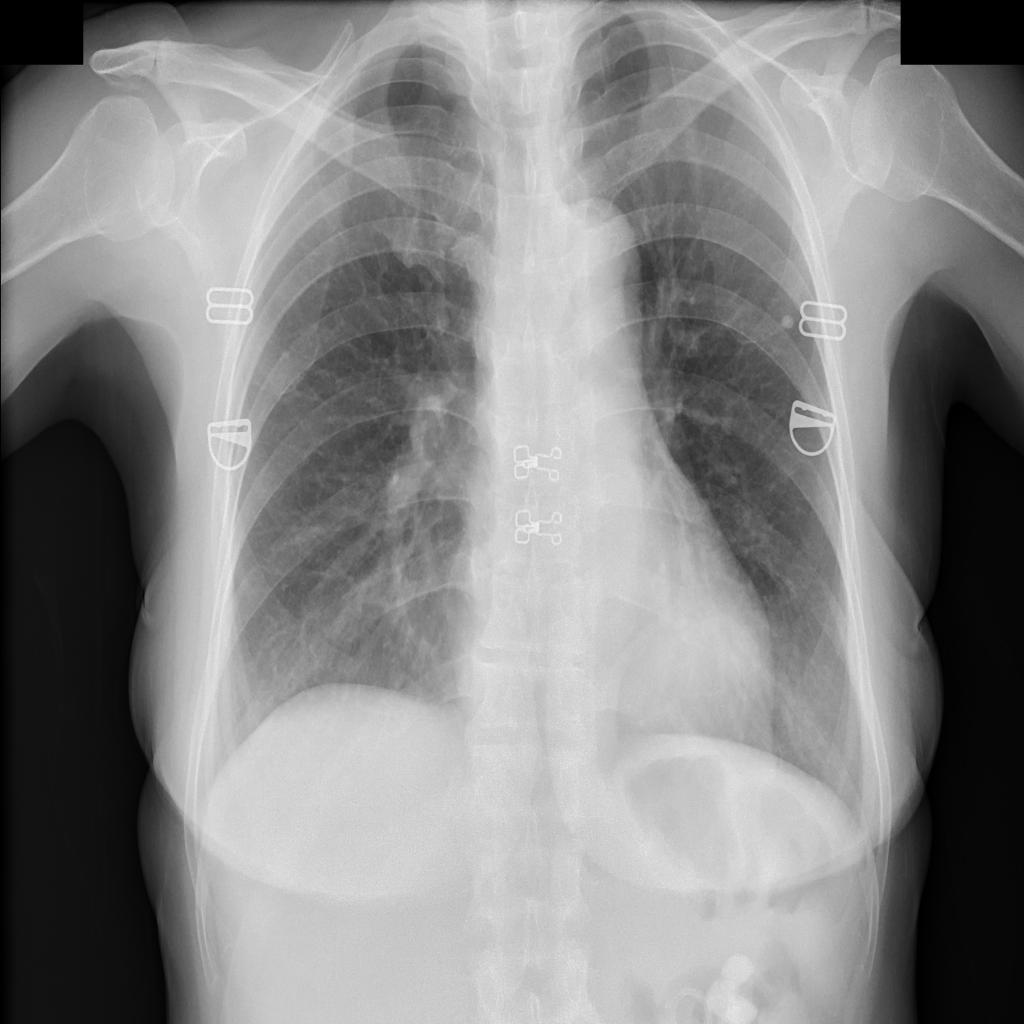Nodule: (782, 313, 795, 330)
